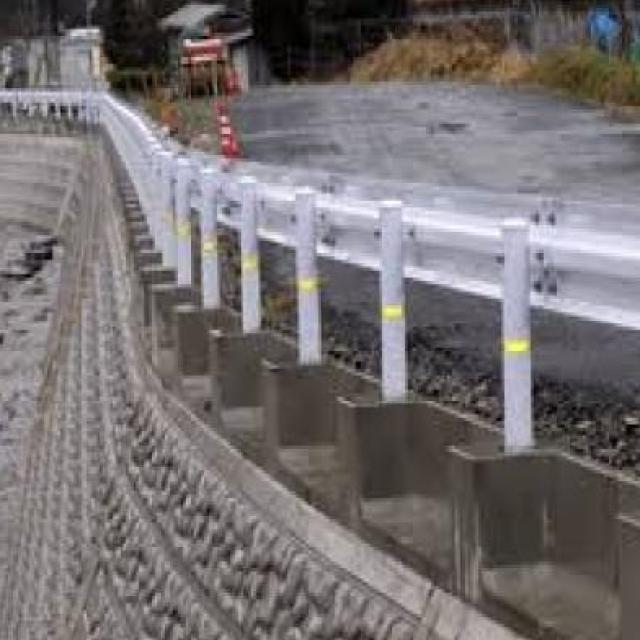Guard rail: (101, 84, 640, 474)
